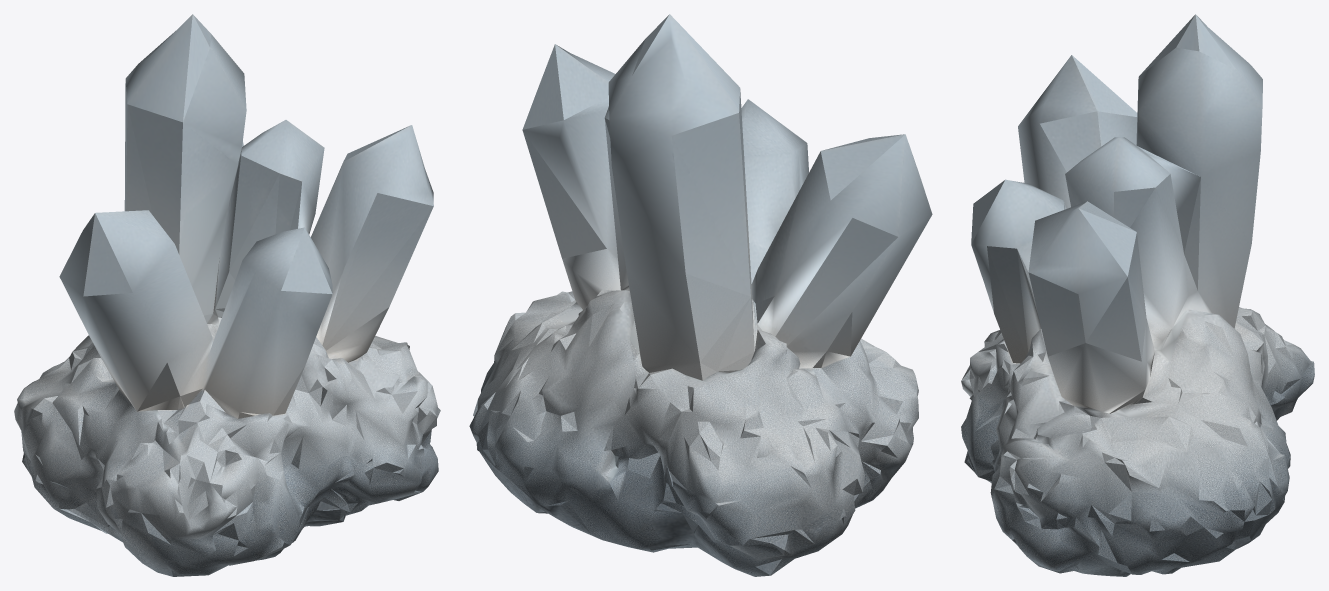
The model's file is Quartz.fbx.
The picture shows the model from 3 angles, left to right: view 1: azimuth 30°, elevation 25°; view 2: azimuth 150°, elevation 25°; view 3: azimuth 270°, elevation 25°; orthographic projection. The views are drawn at different scales.
Parts seen in each view (by area): view 1: Mesh_0; view 2: Mesh_0; view 3: Mesh_0.
Part boxes in pixels (box(x1,y1,x2,y2)): Mesh_0: box(14, 14, 440, 576); Mesh_0: box(469, 14, 932, 576); Mesh_0: box(961, 14, 1314, 576).
Bounding box in the file's own units: 153 × 190 × 123.
1 material, 1 textured.
